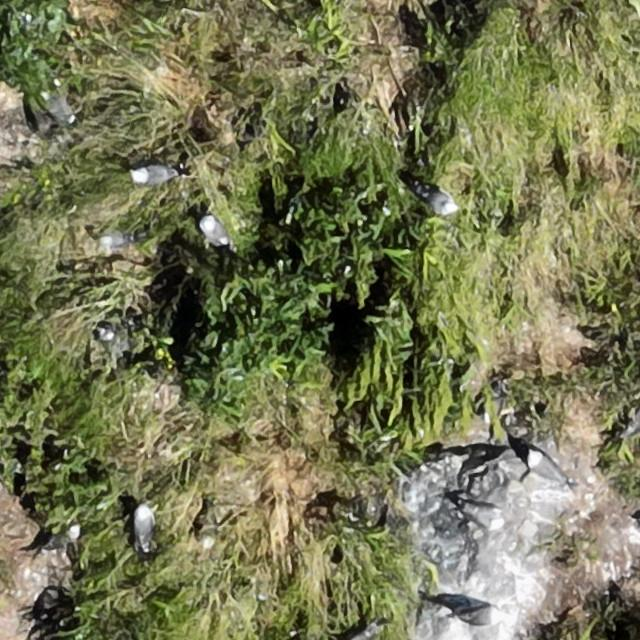umineko: (454, 496, 502, 534), (40, 525, 81, 557), (132, 164, 176, 184), (531, 454, 561, 481), (133, 506, 153, 546), (424, 190, 457, 214), (200, 218, 228, 246), (454, 607, 495, 625), (101, 233, 131, 250), (344, 628, 374, 640)
